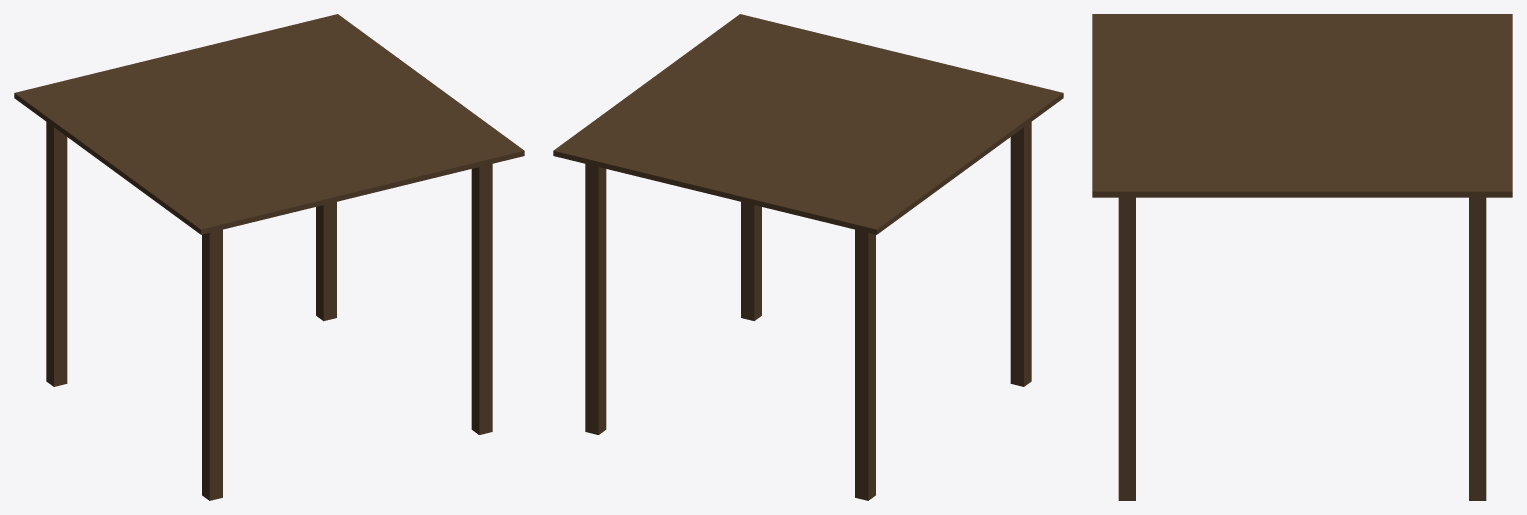
Rendered from Table.fbx.
3 views of the same model, side by side, from view 1: azimuth 30°, elevation 25°; view 2: azimuth 150°, elevation 25°; view 3: azimuth 270°, elevation 25° (orthographic). The views are drawn at different scales.
Parts seen in each view (by area): view 1: pCube5, pCube1, pCube3, pCube2, pCube4; view 2: pCube5, pCube4, pCube2, pCube3, pCube1; view 3: pCube5, pCube1, pCube4.
Part boxes in pixels (<box>): pCube5: <box>14,14,524,234</box>; pCube1: <box>471,164,492,434</box>; pCube3: <box>46,122,67,386</box>; pCube2: <box>202,229,222,500</box>; pCube4: <box>316,202,336,321</box>; pCube5: <box>553,14,1063,234</box>; pCube4: <box>585,164,606,434</box>; pCube2: <box>1010,122,1031,386</box>; pCube3: <box>855,229,875,500</box>; pCube1: <box>741,202,761,321</box>; pCube5: <box>1092,14,1512,197</box>; pCube1: <box>1118,197,1135,500</box>; pCube4: <box>1469,197,1486,500</box>.
Bounding box in the file's own units: 12 × 10.09 × 12.
